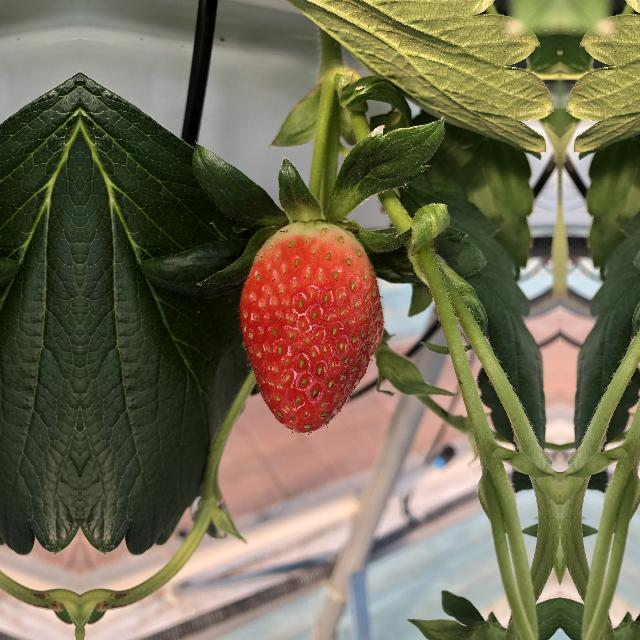Health_100: (234, 214, 396, 436)
